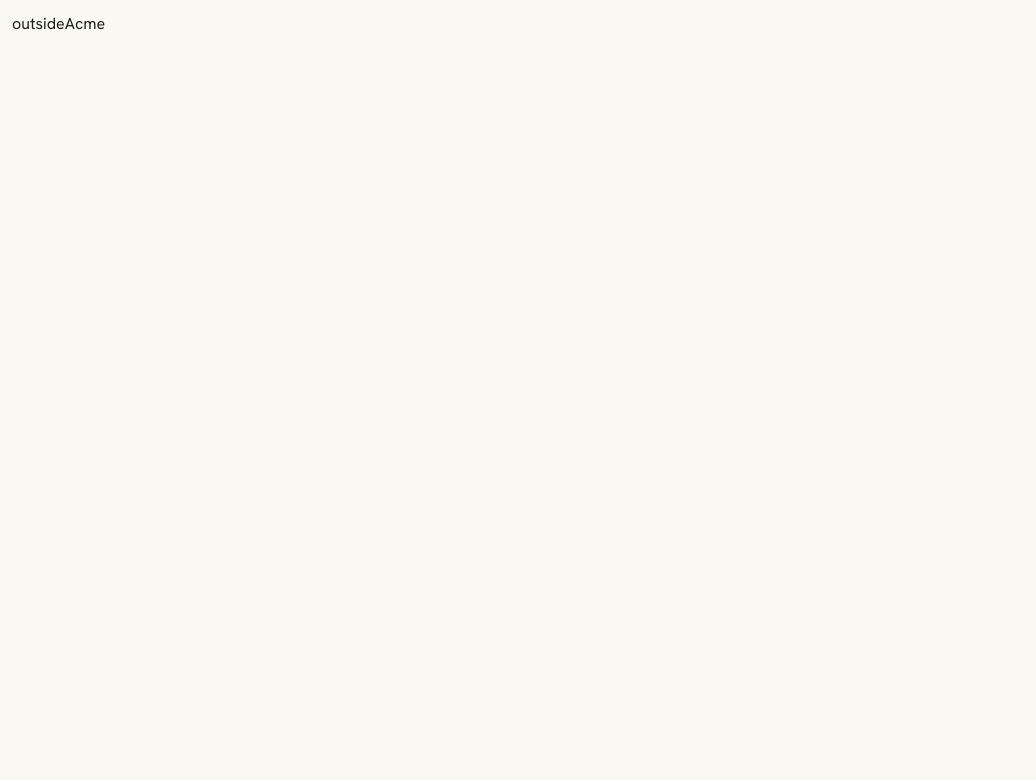
SelectablePopover › does not steal focus from a mouse click-away (#64)
The width and height of the screenshot is (1036, 780).
Click the button with aria-label "Client" at (85, 24), box [65,12,105,36]
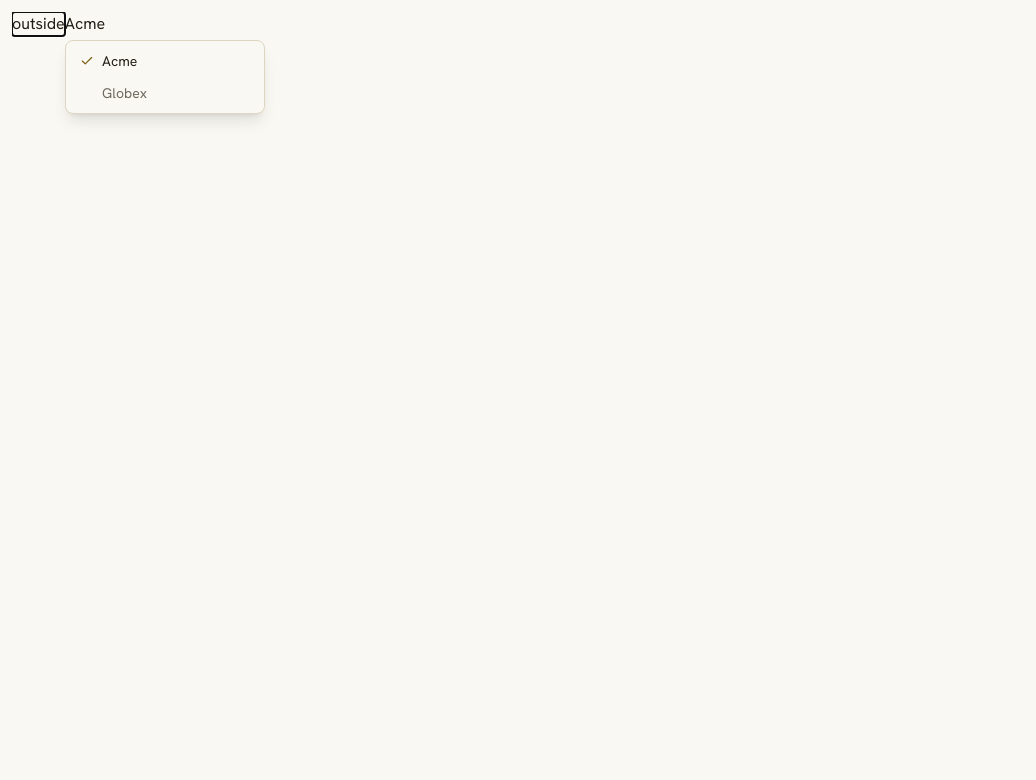
# Clicking away closes the menu but must not yank focus to the trigger.
Press the mouse on the element showing "outside Acme Acme Globex" at (524, 396), box [12,12,1035,779]
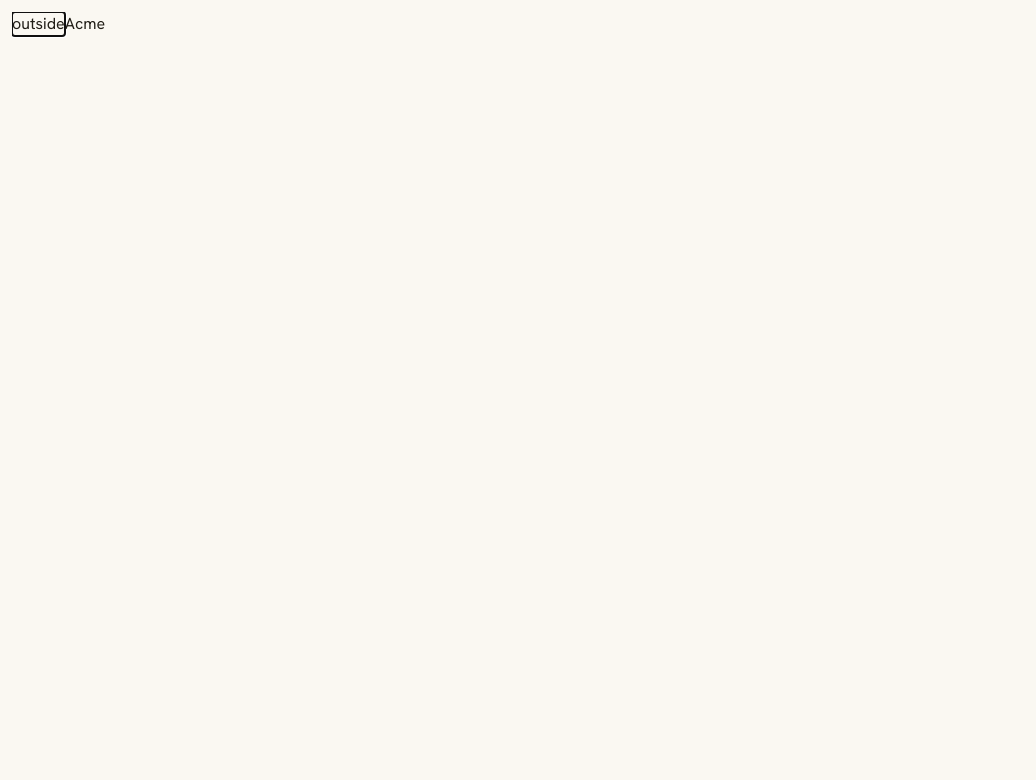
Expected: the menu is gone
